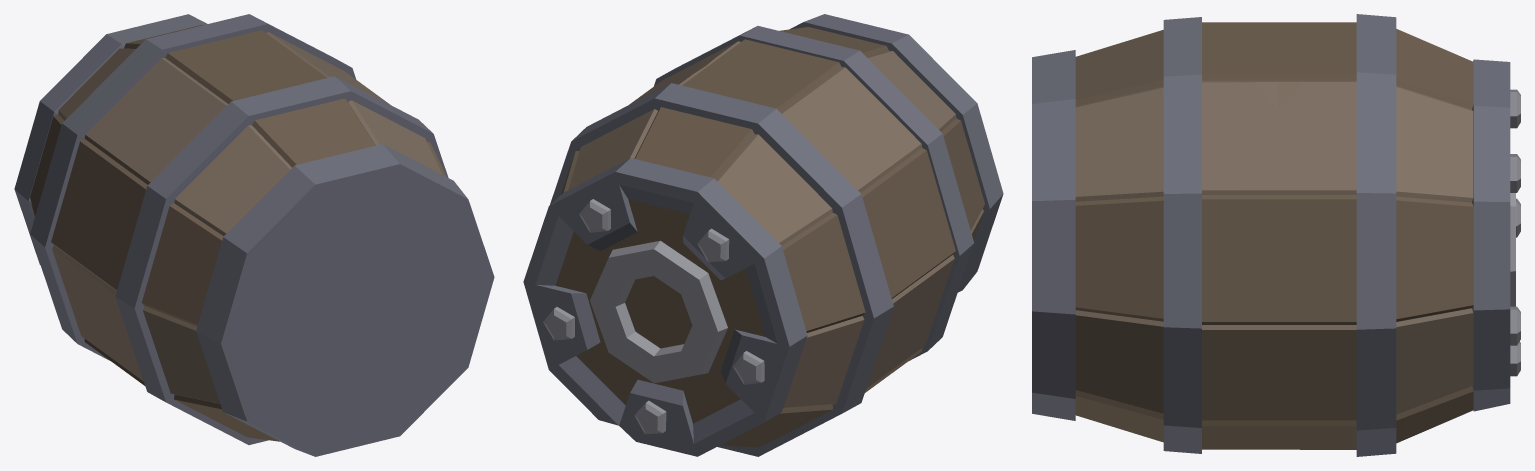
File: barrel_1.glb
The picture shows the model from 3 angles, left to right: view 1: azimuth 30°, elevation 25°; view 2: azimuth 150°, elevation 25°; view 3: azimuth 270°, elevation 25°; orthographic projection. The views are drawn at different scales.
Parts seen in each view (by area): view 1: barrel_1; view 2: barrel_1; view 3: barrel_1.
Part boxes in pixels (x1,y1,x2,y2): barrel_1: (14, 14, 494, 456); barrel_1: (523, 14, 1003, 456); barrel_1: (1032, 14, 1520, 456).
Size of the model in its own units: 0.7759 by 0.7379 by 0.85.
Materials: 1 (1 with a texture image).
